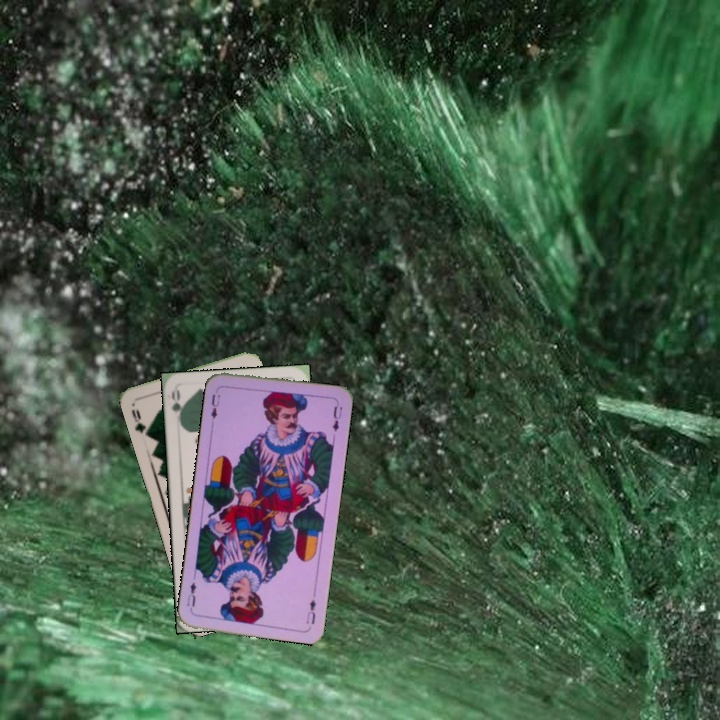EU: (207, 385, 223, 422), (302, 595, 319, 627)
G9: (127, 404, 151, 439)
GO: (167, 387, 186, 427)
